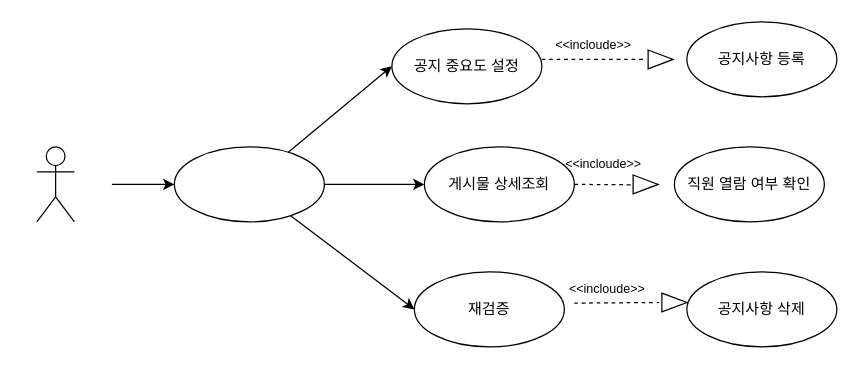
Some shapes in this 859 by 369 pixel diagram are drawn without their labels. The shapes that lost their labels are listed below. From the top down, each one's centre as x and y in pixels, then its label:
the point at 55,184: 인사관리자
the point at 248,184: 권한 검증
